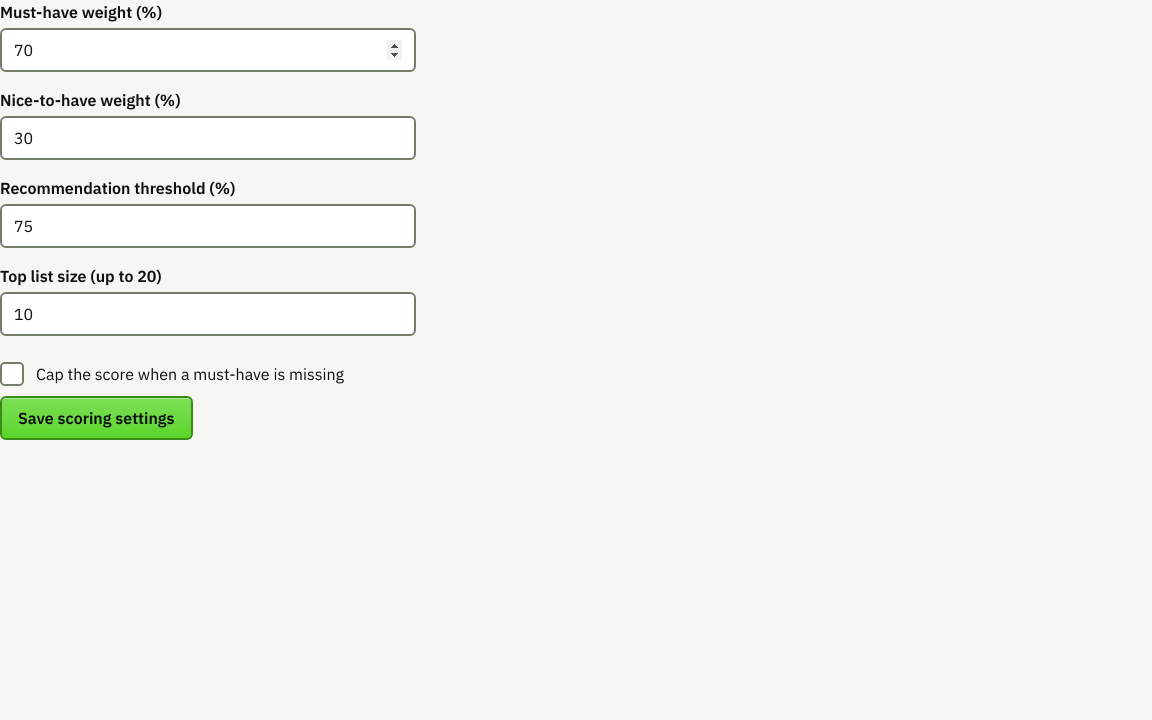
scoring settings › saves the cap switch when it is ticked
Expected: the number field showing "75" is shown, [0,204,416,248]
Click the checkbox labelled "Cap the score when a must-have is missing". click: (12, 374)
box: [0,362,24,386]
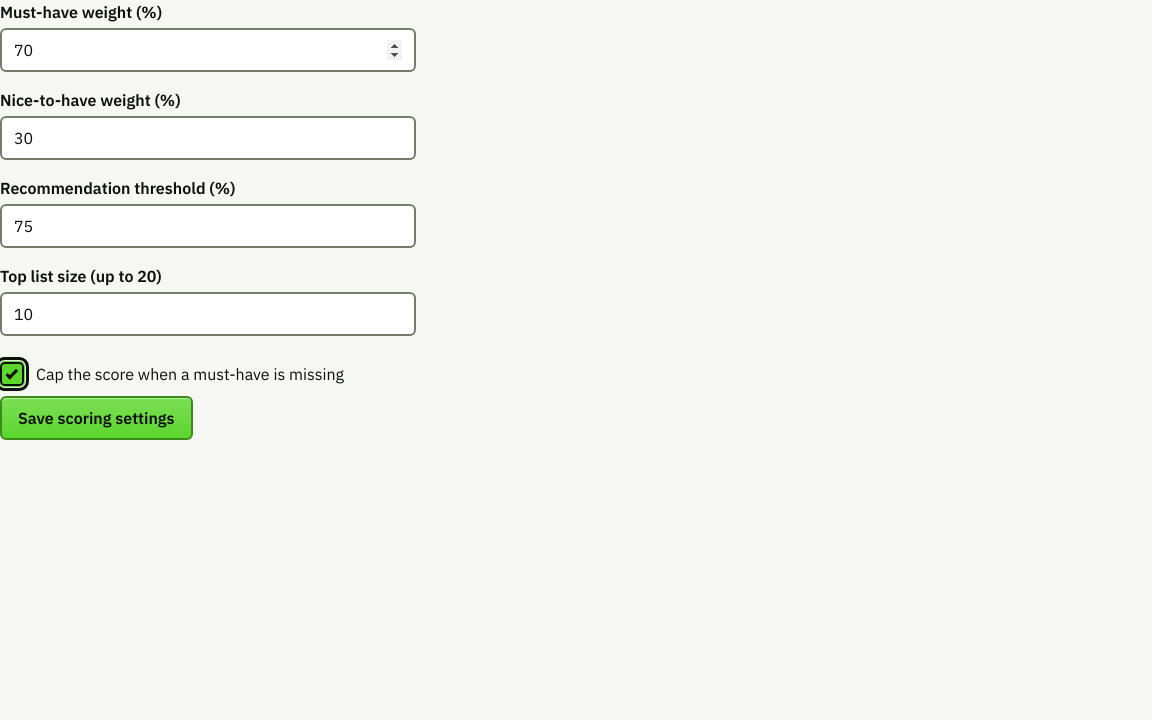
Click the button "Save scoring settings". click: (96, 418)
box: [0,396,192,440]
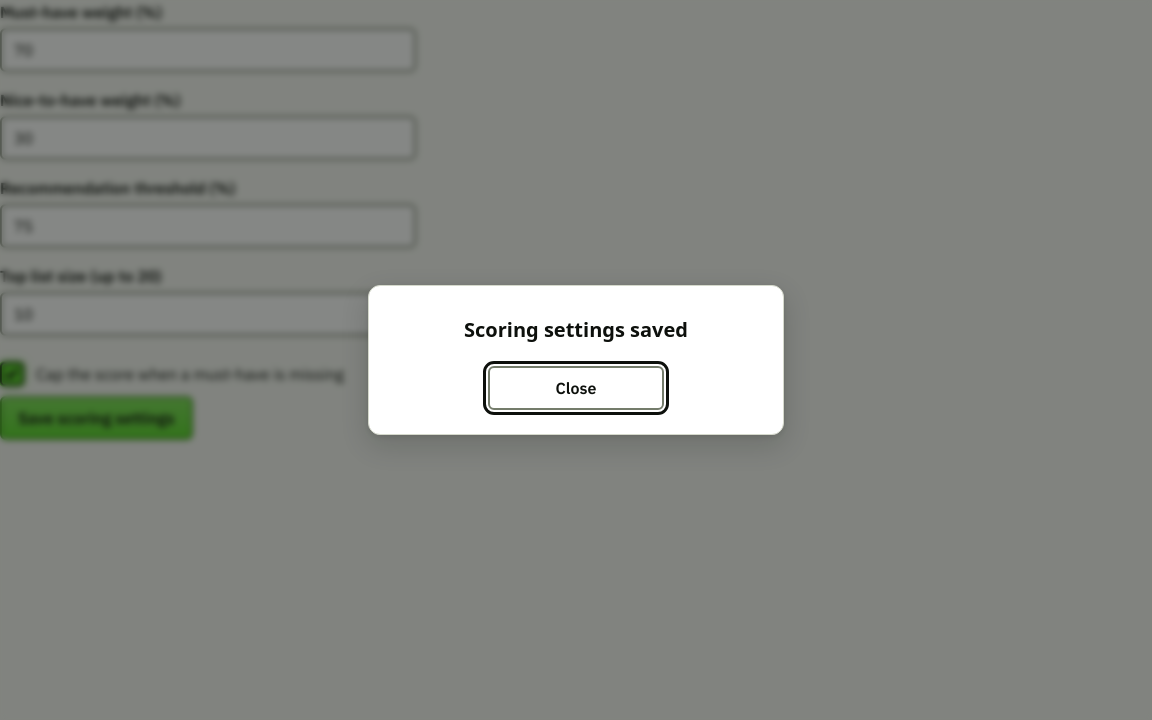
Result: the heading "Scoring settings saved" is shown at [464,316,688,343]
